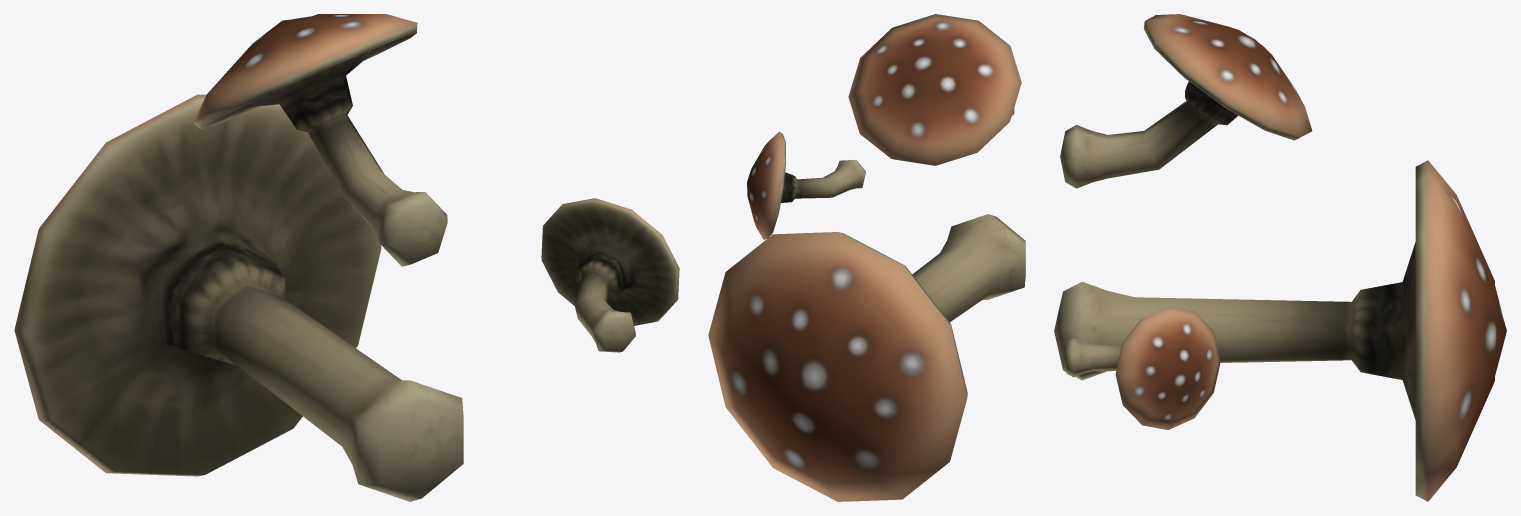
The model's file is Mushroom_b_ii.fbx.
The picture shows the model from 3 angles, left to right: view 1: azimuth 30°, elevation 25°; view 2: azimuth 150°, elevation 25°; view 3: azimuth 270°, elevation 25°; orthographic projection. The views are drawn at different scales.
Parts seen in each view (by area): view 1: Mushroom_b_ii; view 2: Mushroom_b_ii; view 3: Mushroom_b_ii.
Boxes of the visible parts, <box> form: Mushroom_b_ii: <box>14,14,679,501</box>; Mushroom_b_ii: <box>708,14,1025,501</box>; Mushroom_b_ii: <box>1054,14,1506,501</box>.
Bounding box in the file's own units: 62.02 × 69.96 × 62.65.
